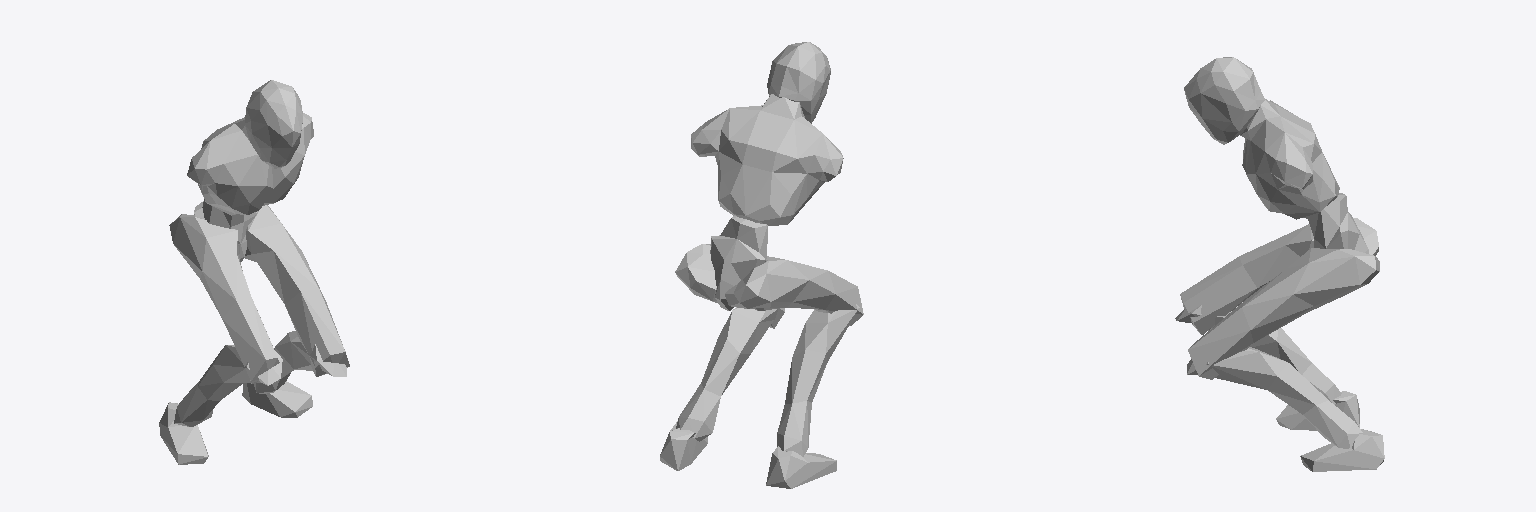
Rendered from filth60.obj.
3 views of the same model, side by side, from view 1: azimuth 30°, elevation 25°; view 2: azimuth 150°, elevation 25°; view 3: azimuth 270°, elevation 25° (orthographic).
Visible parts, largest first — view 1: Melee_Husk; view 2: Melee_Husk; view 3: Melee_Husk.
Part boxes in pixels (left/top/right/bottom): Melee_Husk: left=159, top=80, right=349, bottom=464; Melee_Husk: left=660, top=42, right=863, bottom=488; Melee_Husk: left=1175, top=57, right=1384, bottom=471.
Bounding box in the file's own units: 22.17 × 56.02 × 27.28.